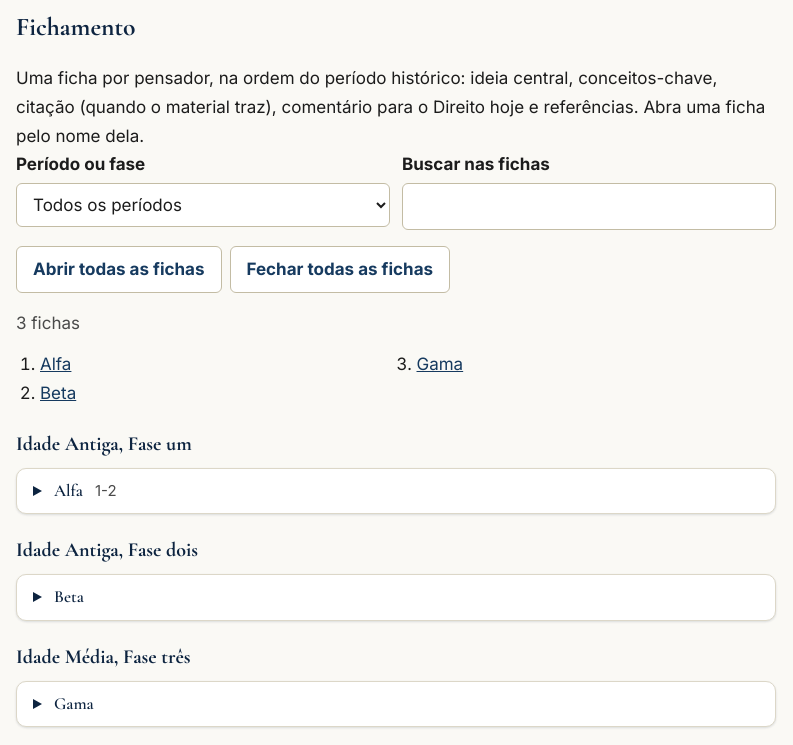
FichamentoVisor: filtro › o índice acompanha o filtro
Type "sal" into the search field with class "fichamento__busca".
click(589, 207); type("sal")  # box [402,183,776,230]
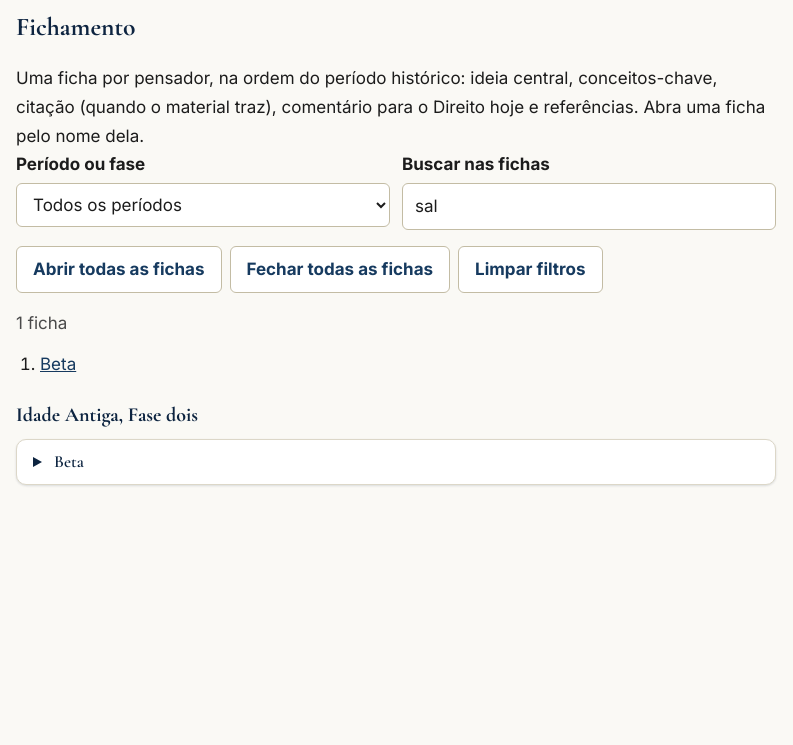
Expected: the number of links is 1, [40,350,76,379]
